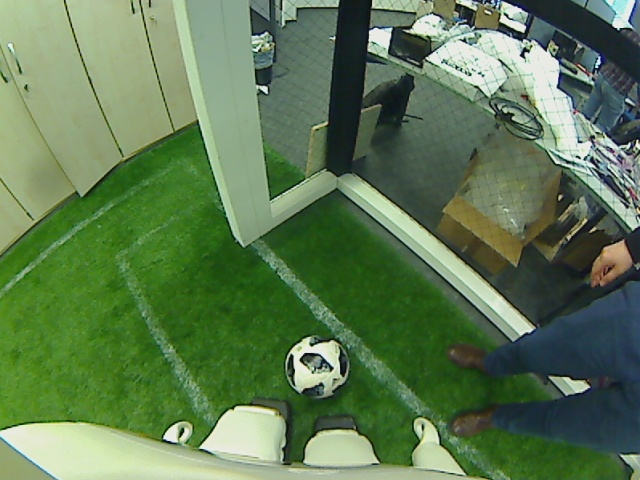ball: (284, 331, 347, 400)
